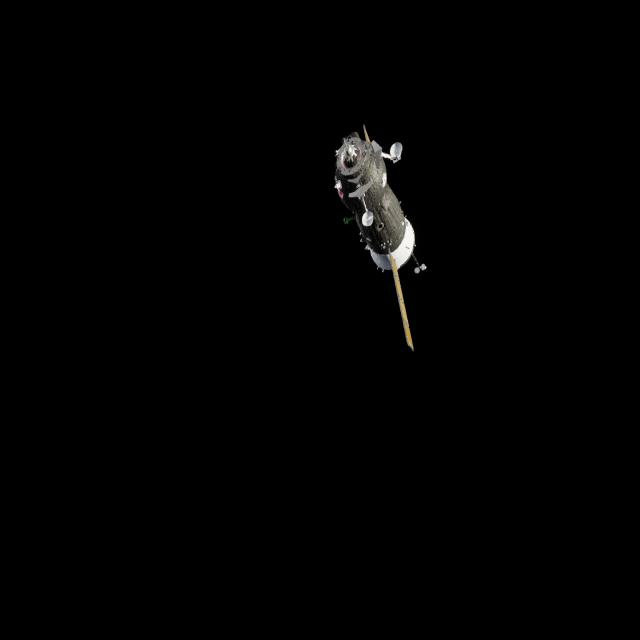Satellites revolving around earth: (332, 124, 428, 354)
